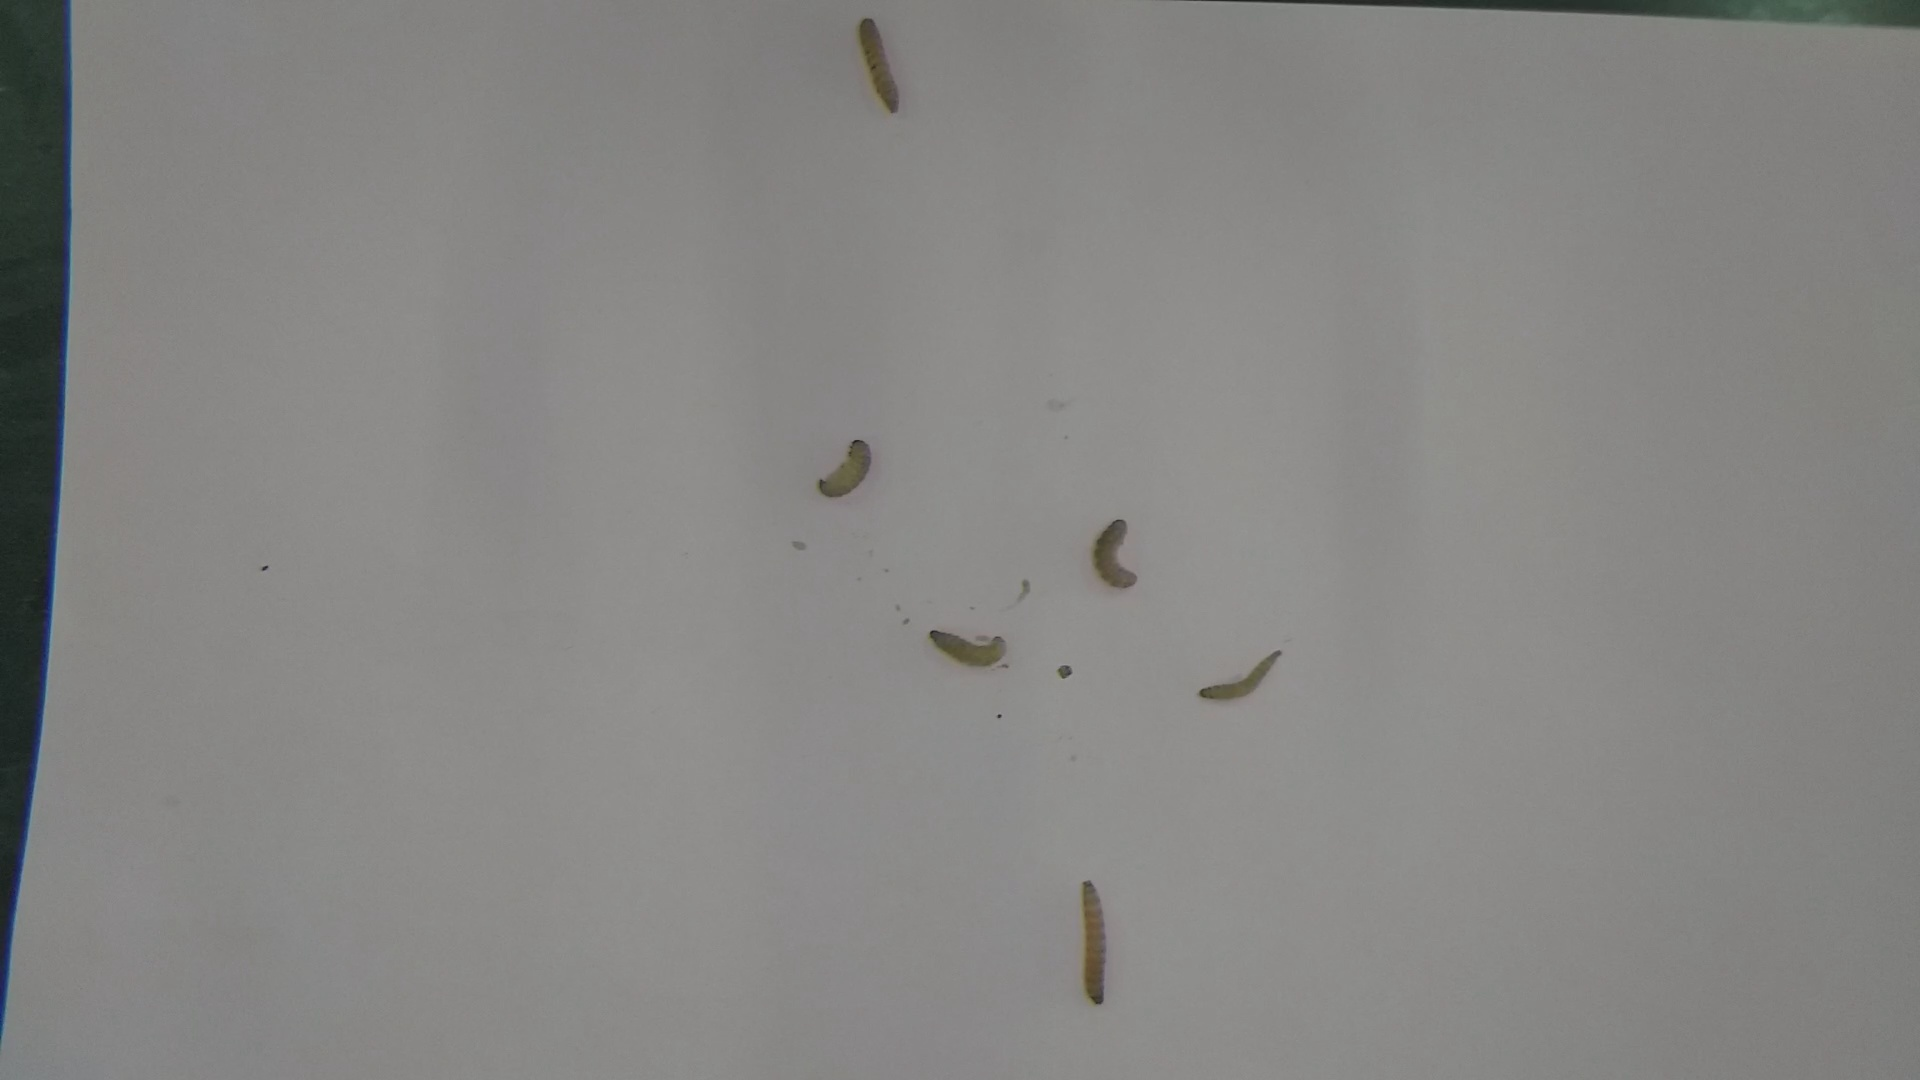efsb: (1083, 510, 1143, 611), (1193, 641, 1298, 699), (1076, 864, 1112, 1019), (855, 7, 902, 123), (923, 617, 1021, 671), (818, 433, 880, 504)
